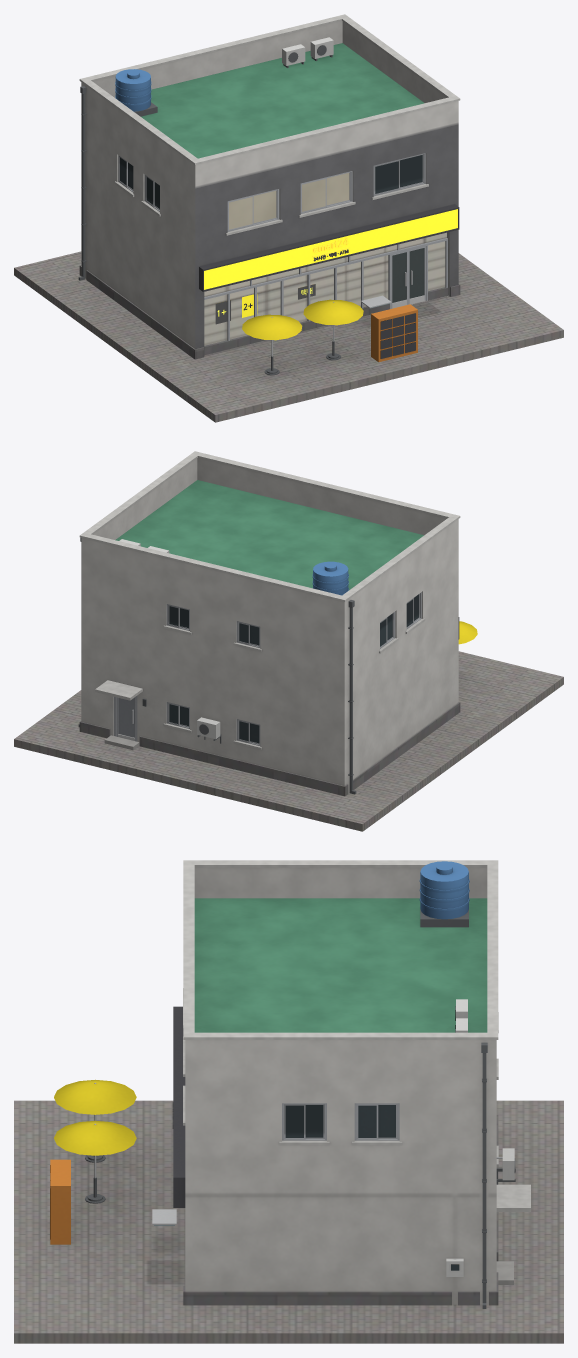
File: IlsanEmart24_LOD1.fbx
3 renders of one model, top to bottom at view 1: azimuth 30°, elevation 25°; view 2: azimuth 150°, elevation 25°; view 3: azimuth 270°, elevation 25°, orthographic. The views are drawn at different scales.
Parts seen in each view (by area): view 1: IlsanEmart24_LOD1; view 2: IlsanEmart24_LOD1; view 3: IlsanEmart24_LOD1.
Boxes of the visible parts, <box> form: IlsanEmart24_LOD1: <box>14,14,563,422</box>; IlsanEmart24_LOD1: <box>14,451,563,831</box>; IlsanEmart24_LOD1: <box>14,860,563,1343</box>.
Size of the model in its own units: 15.9 by 9.4 by 15.9.
1 material, 1 textured.
